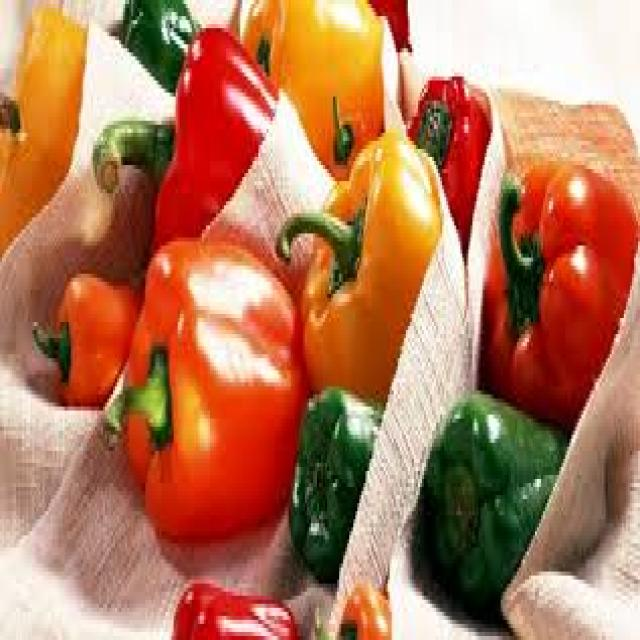Bell pepper: (113, 234, 314, 562), (289, 121, 449, 399), (484, 142, 640, 422), (121, 21, 283, 258), (419, 374, 572, 613), (246, 0, 398, 193), (286, 372, 398, 588), (0, 0, 89, 258), (26, 248, 142, 433), (406, 60, 502, 228), (160, 562, 302, 640), (114, 0, 205, 93), (327, 572, 392, 640)
